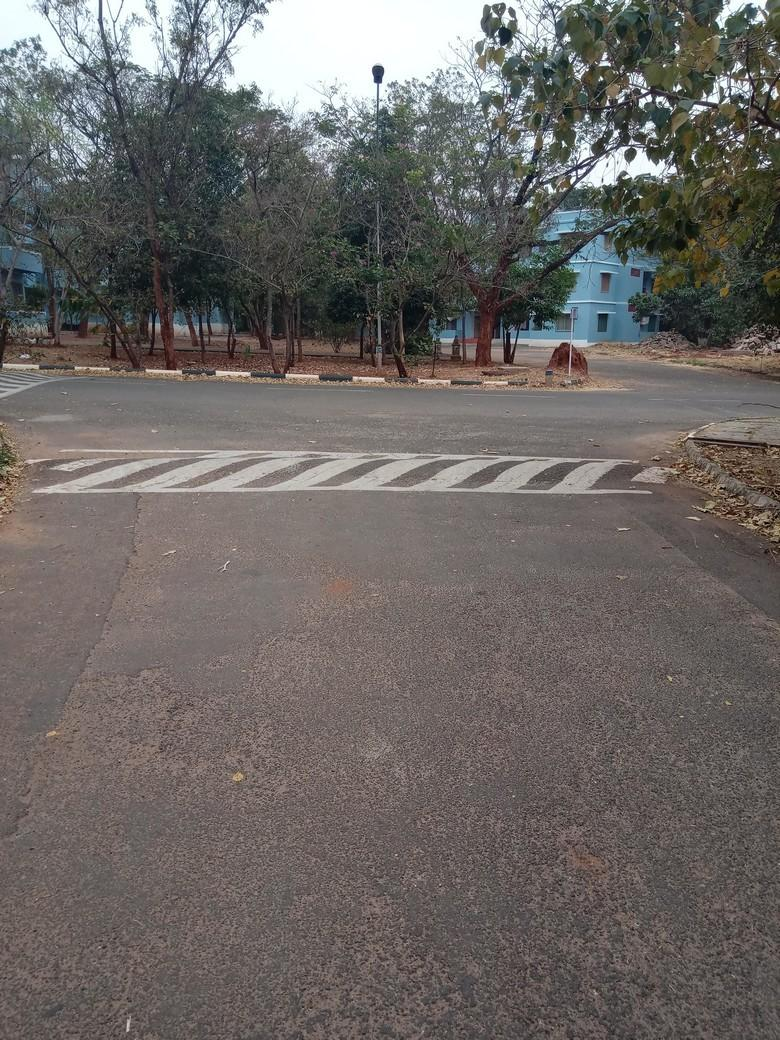speed-bump: (26, 443, 666, 498)
